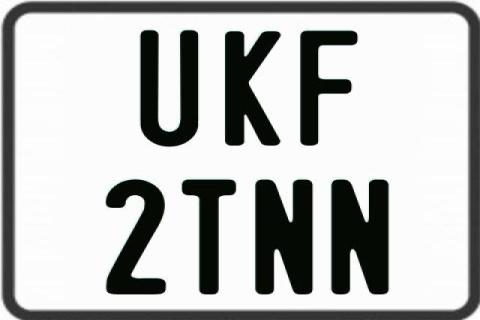0: (105, 178, 171, 296)
F: (299, 29, 357, 150)
K: (225, 31, 281, 149)
N: (254, 178, 318, 294), (331, 178, 389, 298)
T: (182, 178, 241, 294)
U: (139, 31, 197, 147)
